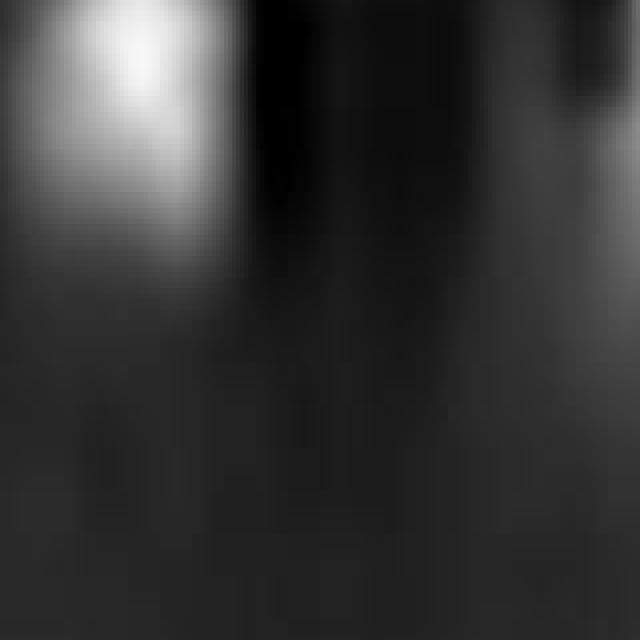person: (1, 1, 241, 305)
